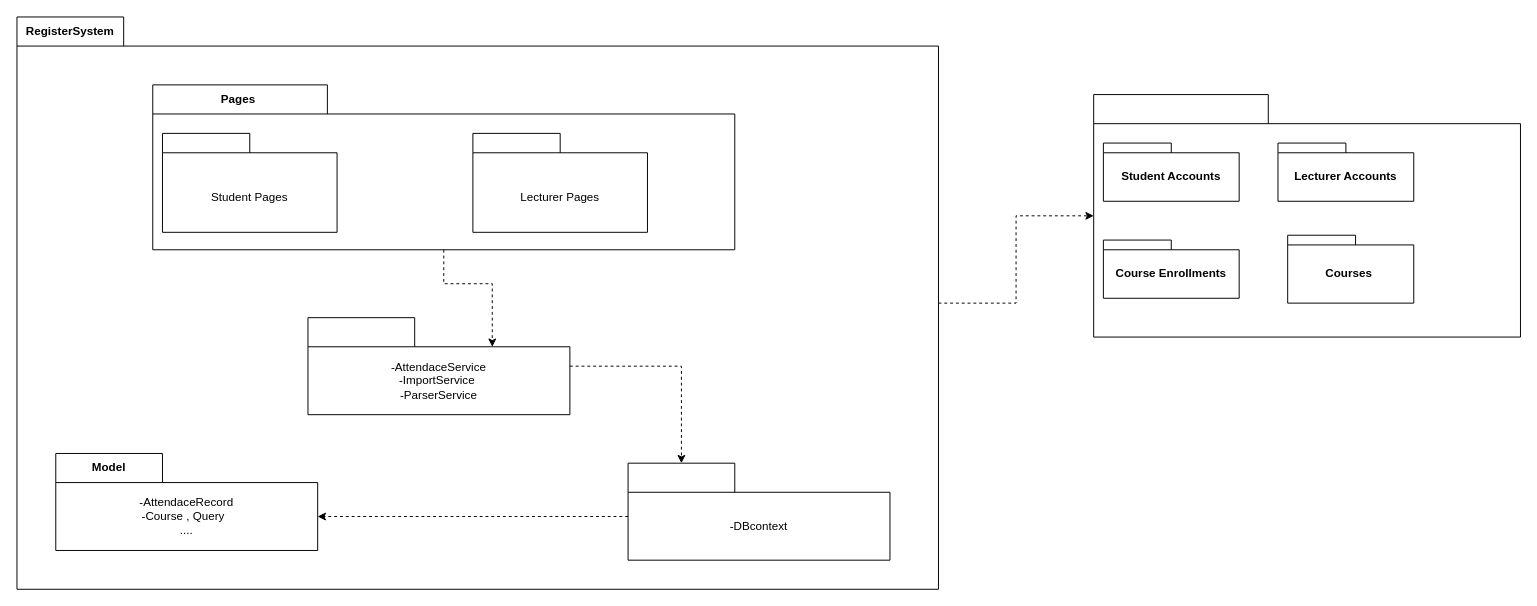
Some shapes in this 1537 by 606 pixel diagram are drawn without their labels. Each missing label, with the box of its shape:
<<External>> UCT Admin System: (1093, 94, 1520, 337)
Data: (627, 462, 890, 560)
Services: (307, 317, 570, 415)
